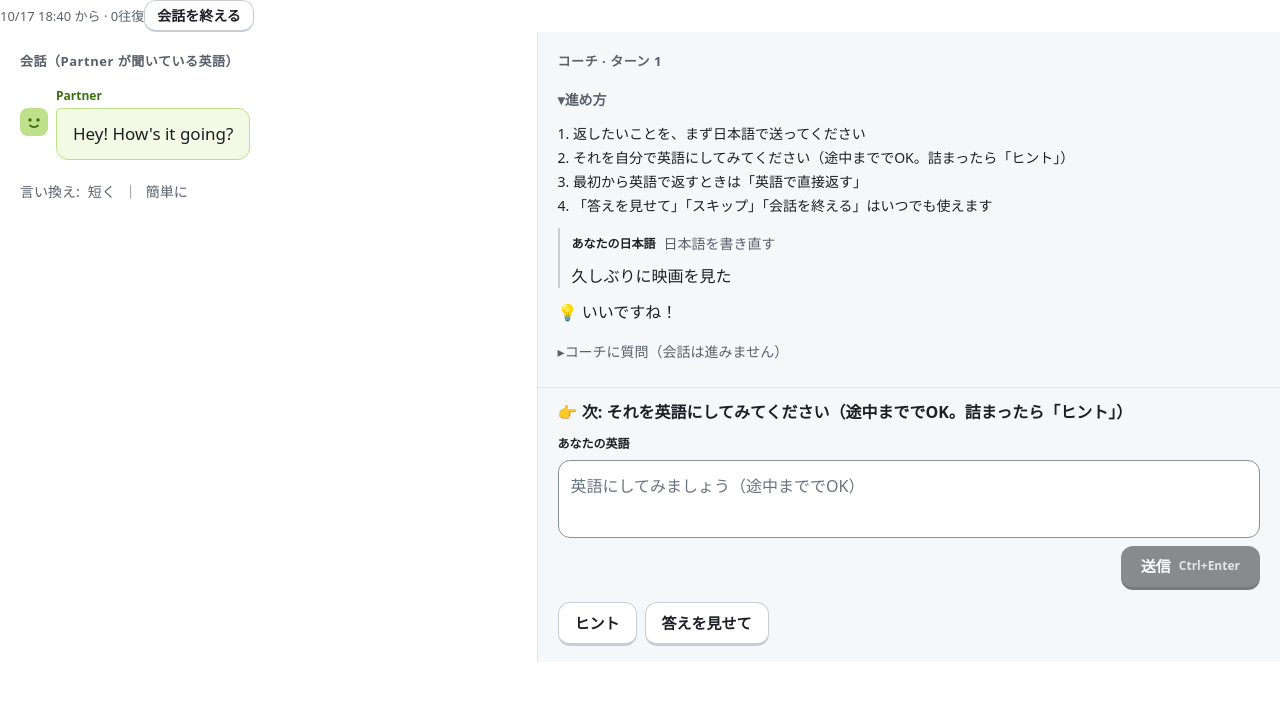
ConversationScreen stage table (REQ-003) › opens the hint box under the composer, keeps the partial English, and Esc closes it
The width and height of the screenshot is (1280, 720).
Step 1. Type "I watched" into the text box labelled "あなたの英語" → coordinates (909, 499), box x1=558 y1=460 x2=1260 y2=538
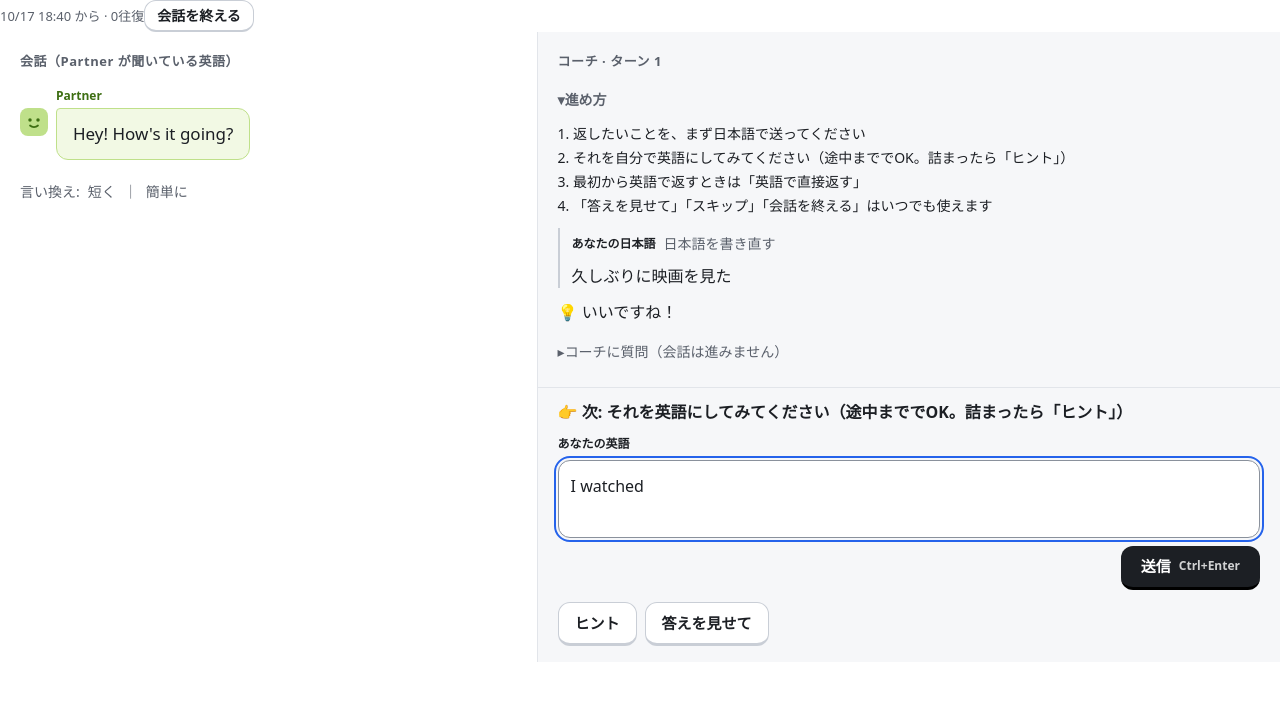
Step 2. Click the button "ヒント" → coordinates (597, 624), box x1=558 y1=602 x2=637 y2=646
(page scrolled)
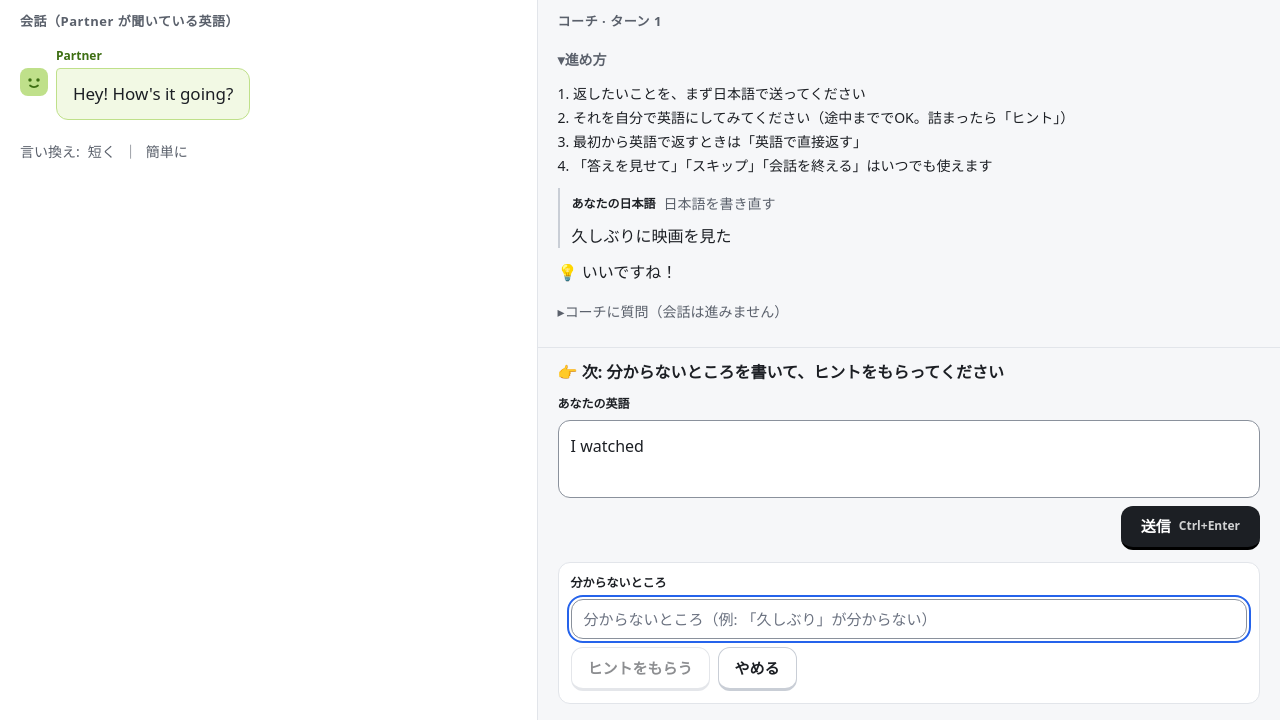
Expected: the button "やめる" is enabled, x1=718 y1=647 x2=797 y2=691
Result: the button "ヒントをもらう" is disabled at x1=571 y1=647 x2=710 y2=691
Step 3. Press Escape
(page scrolled)
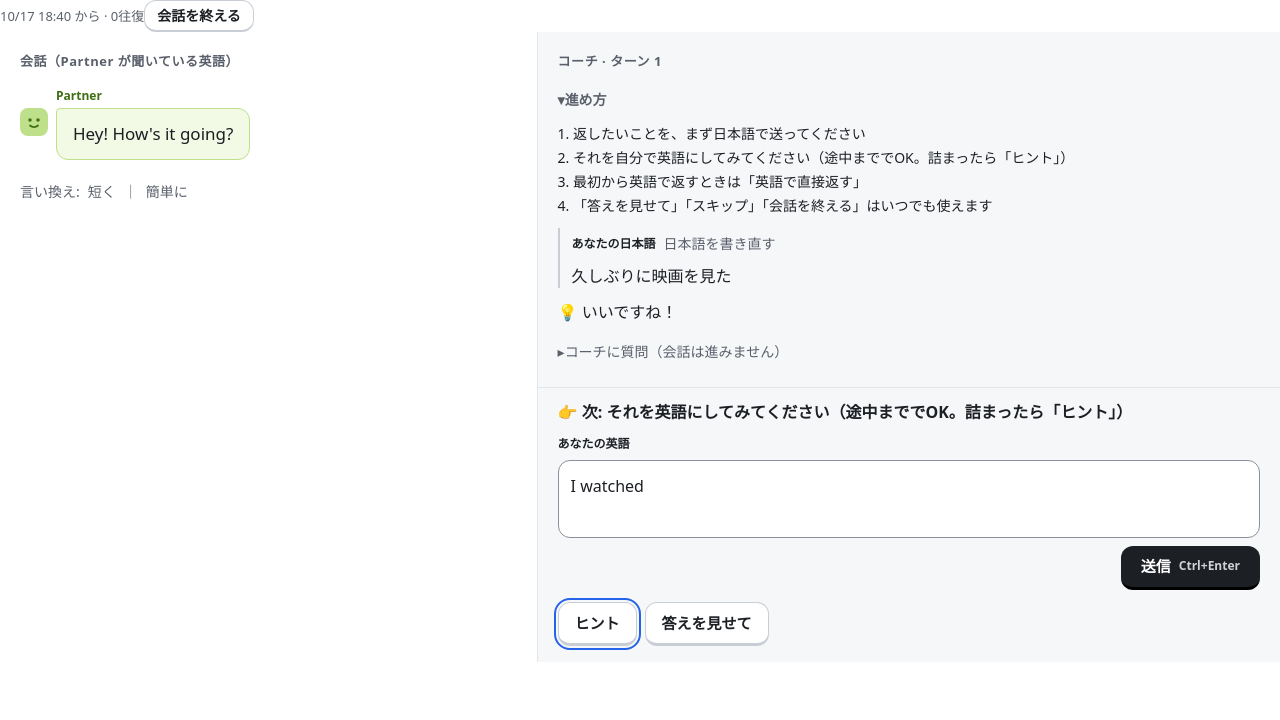
Result: the text "分からないところ" is gone
